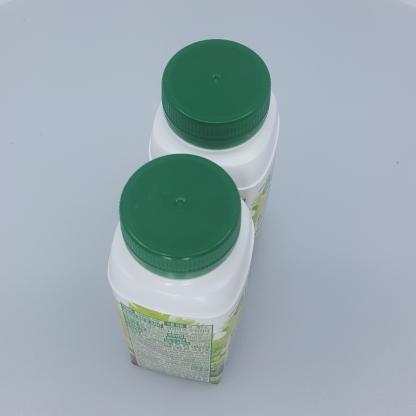---------190ML: (108, 153, 254, 385), (149, 37, 279, 243)
